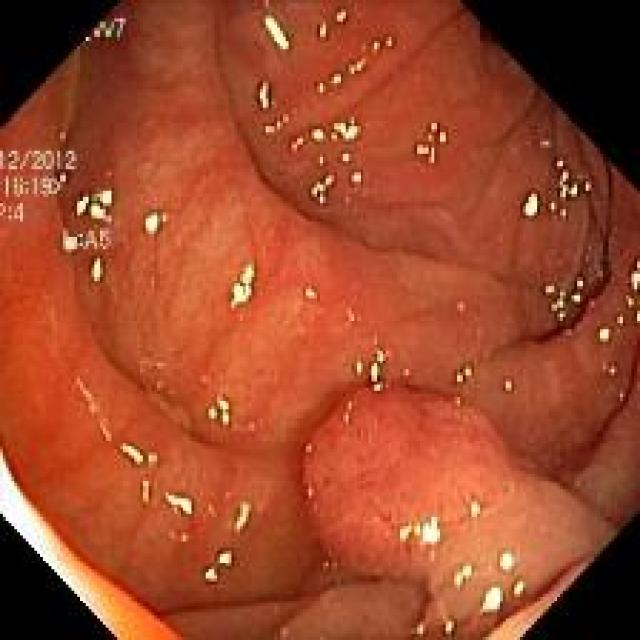Polyps: (304, 389, 524, 581)
